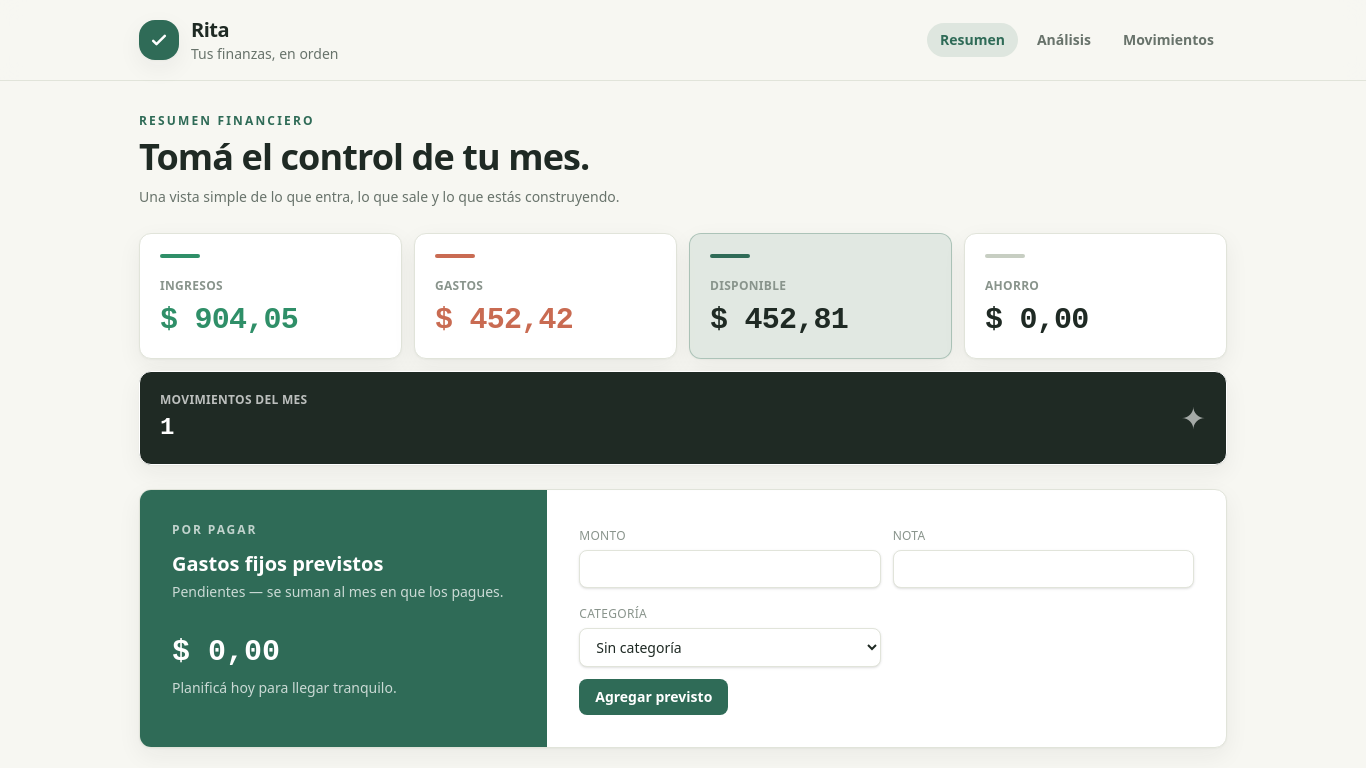
Test: App › refreshes the list and the summary in place after a confirmed delete
Click the button "Movimientos".
click(1168, 40)  # box [1110,23,1227,57]
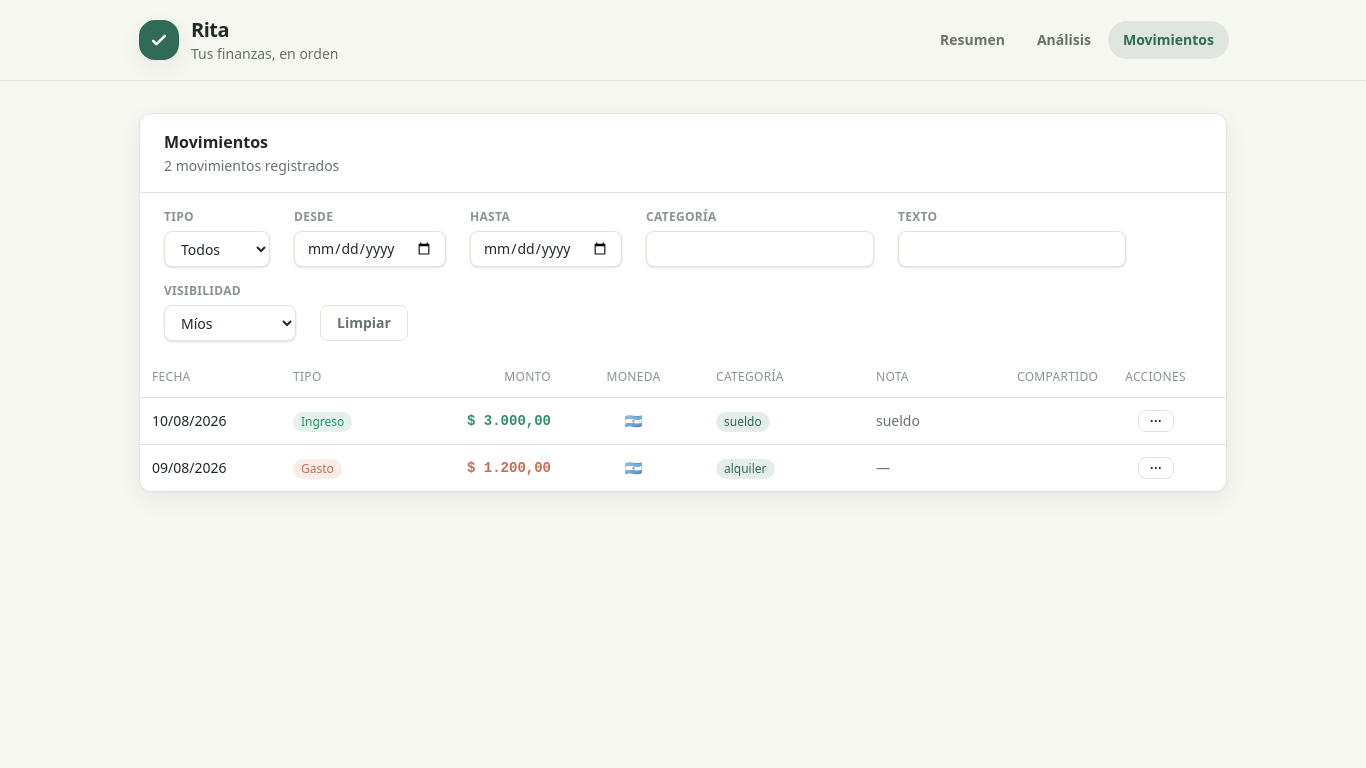
Expected: the table is shown, [140,357,1226,491]
Click the button named "Abrir acciones del movimiento".
click(1156, 421)  # box [1138,410,1174,432]
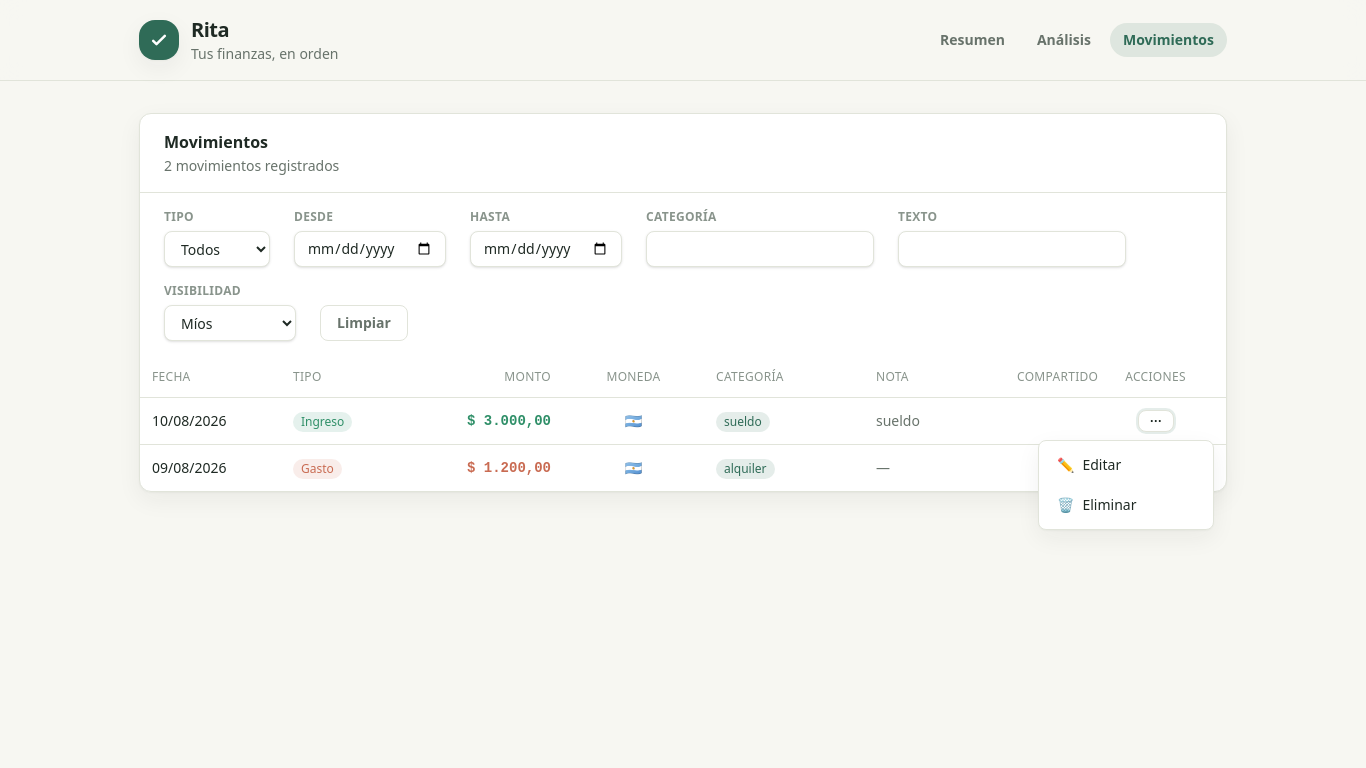
Click the button "🗑️ Eliminar".
click(1126, 505)  # box [1045,487,1207,523]
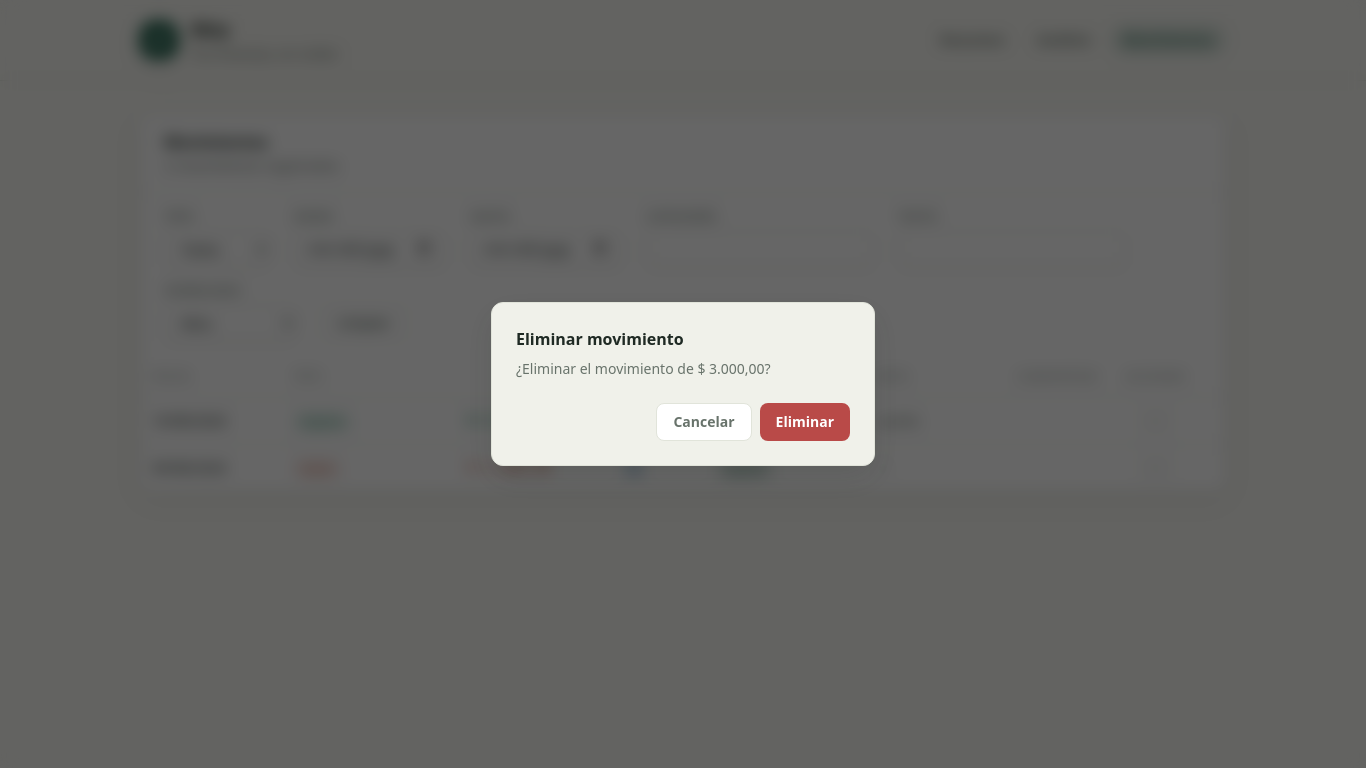
Click the button "Eliminar".
click(805, 422)  # box [760,403,850,441]
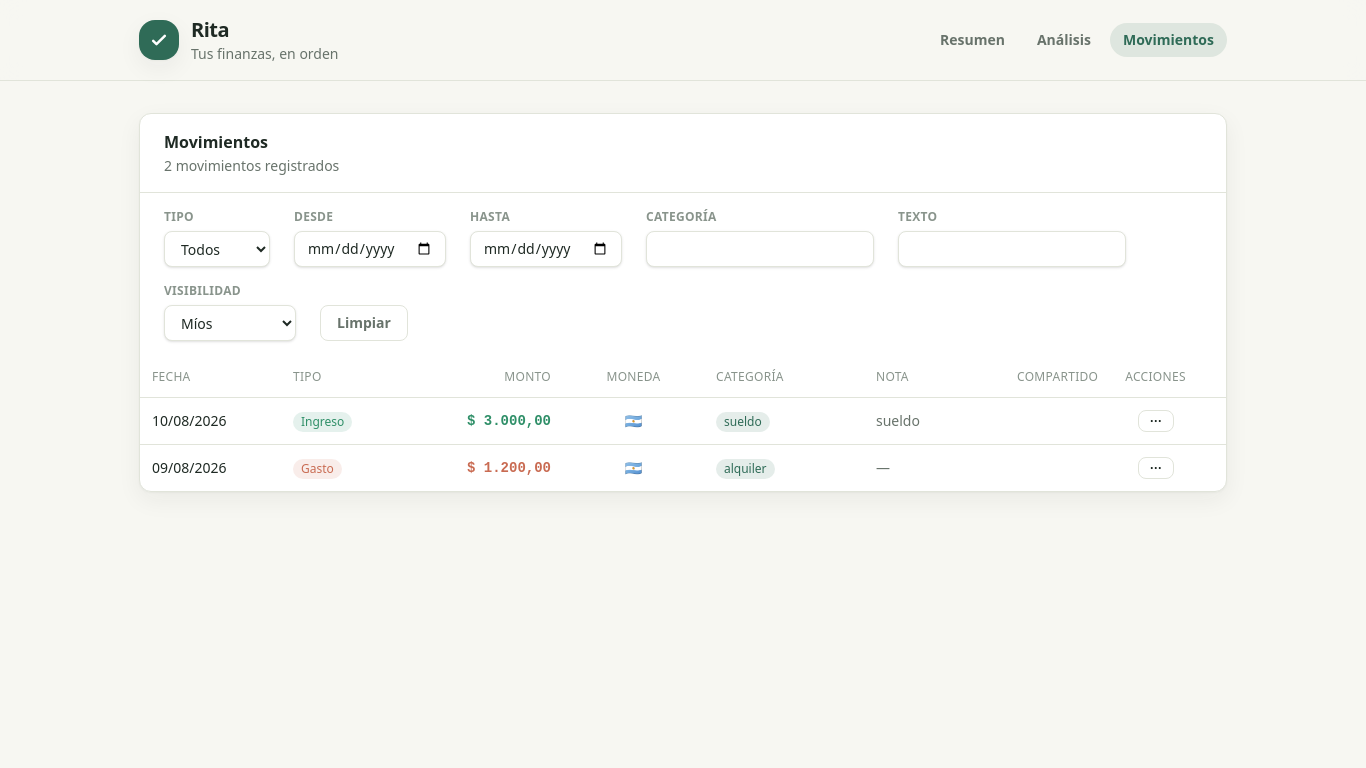
Expected: the dialog is gone
